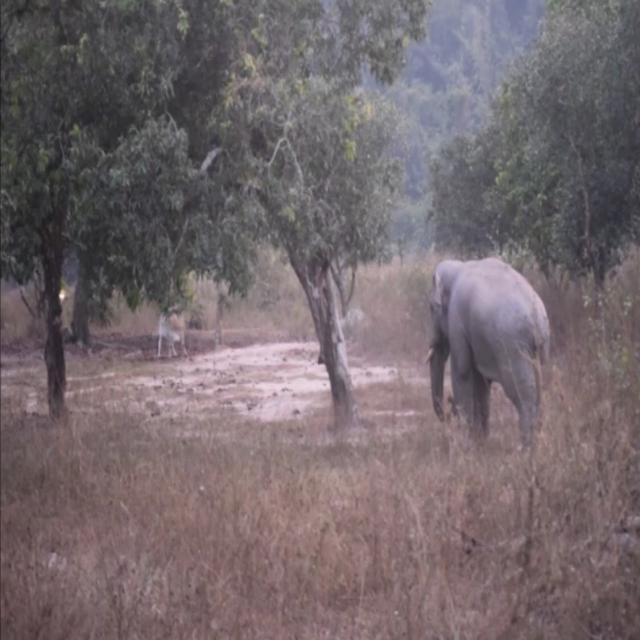Elephant: (420, 240, 562, 461)
